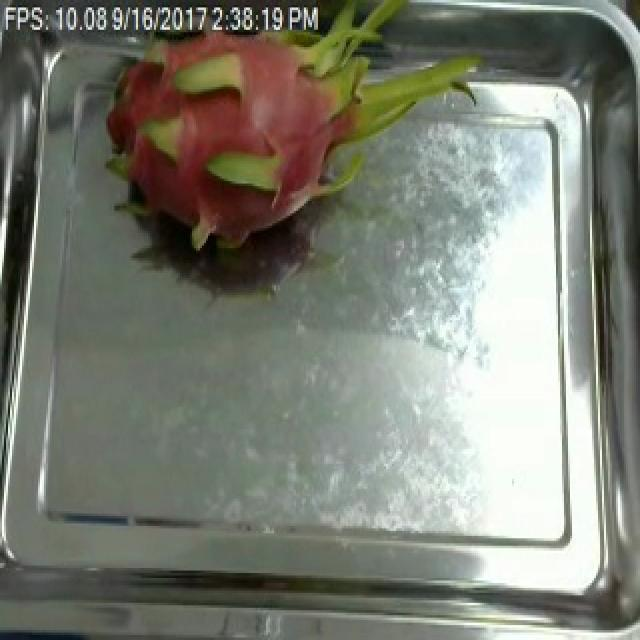fruit: (78, 0, 446, 290)
